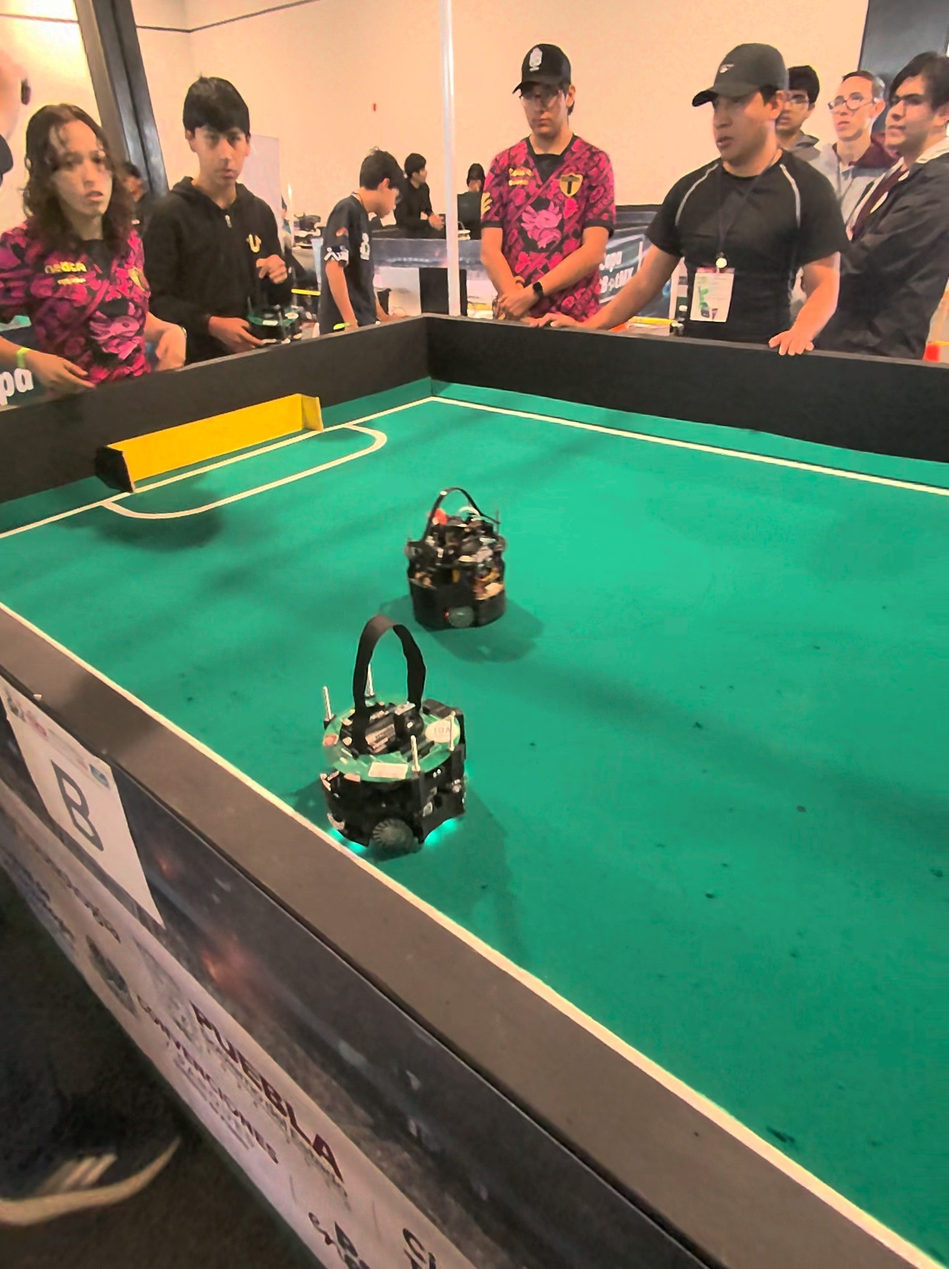Robot: (320, 593, 479, 866), (401, 488, 506, 637)
